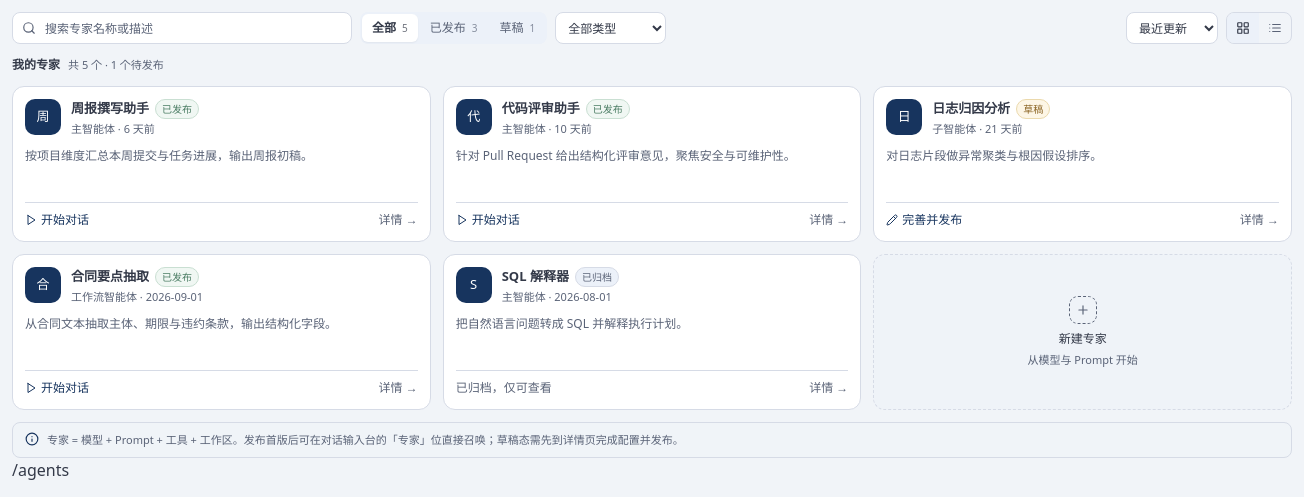
it: ExpertsTab · 卡片主操作与视图 › ⑦ 列表视图切换（表格无版本号列）
Click the button with test id "agents-view-list": coordinates (1275, 28) [1259, 13, 1291, 43]
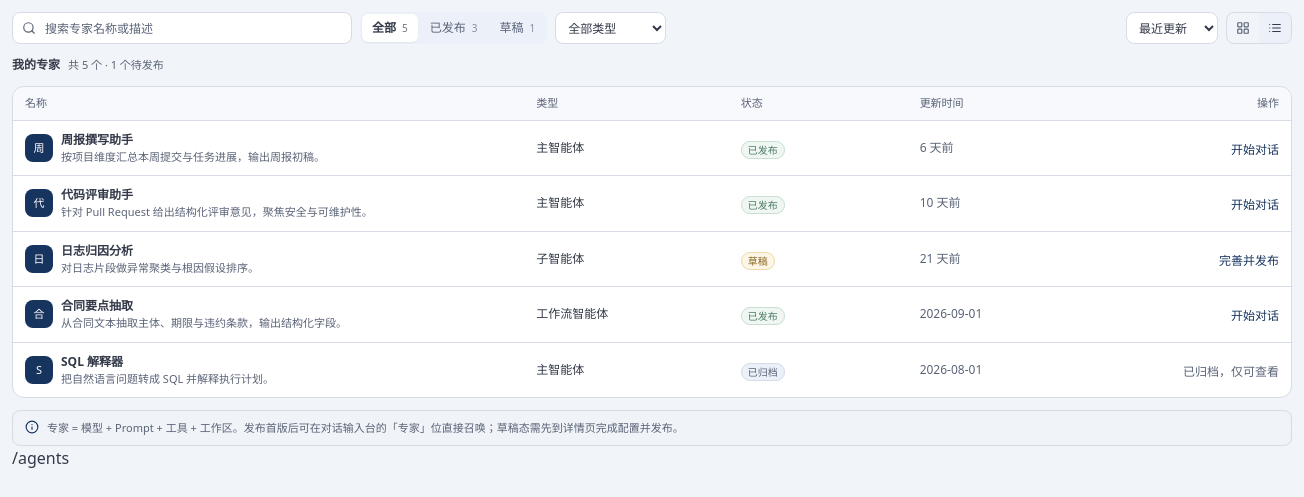
Expected: the table with test id "agents-experts-list" is shown
Expected: the row with test id "agent-row-a3" is shown, [13, 231, 1291, 286]
Click the button with test id "agents-view-grid": coordinates (1243, 28) [1227, 13, 1259, 43]
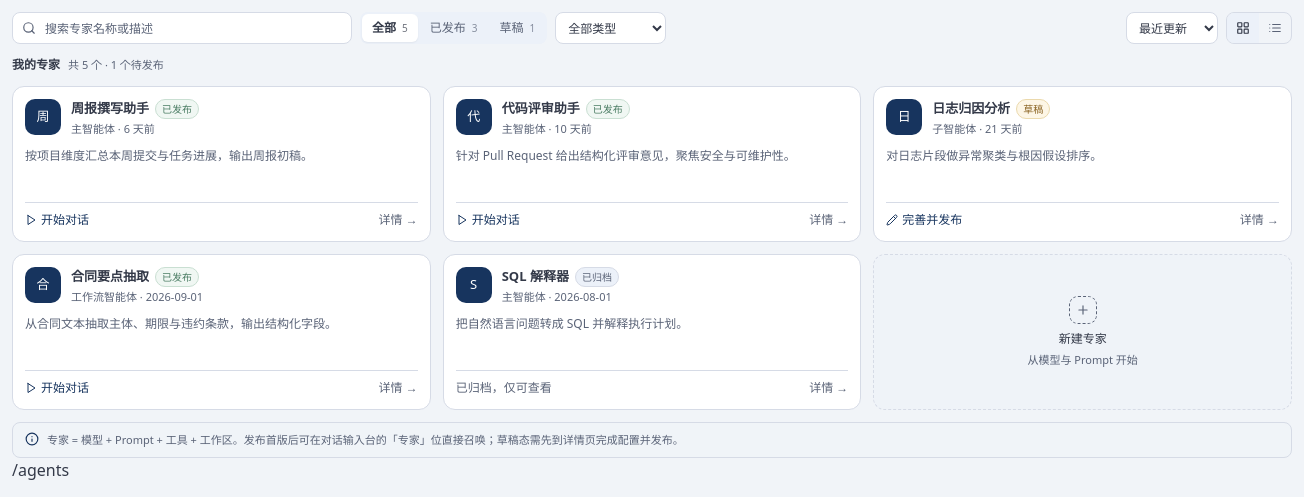
Expected: the element with test id "agents-experts-grid" is shown
